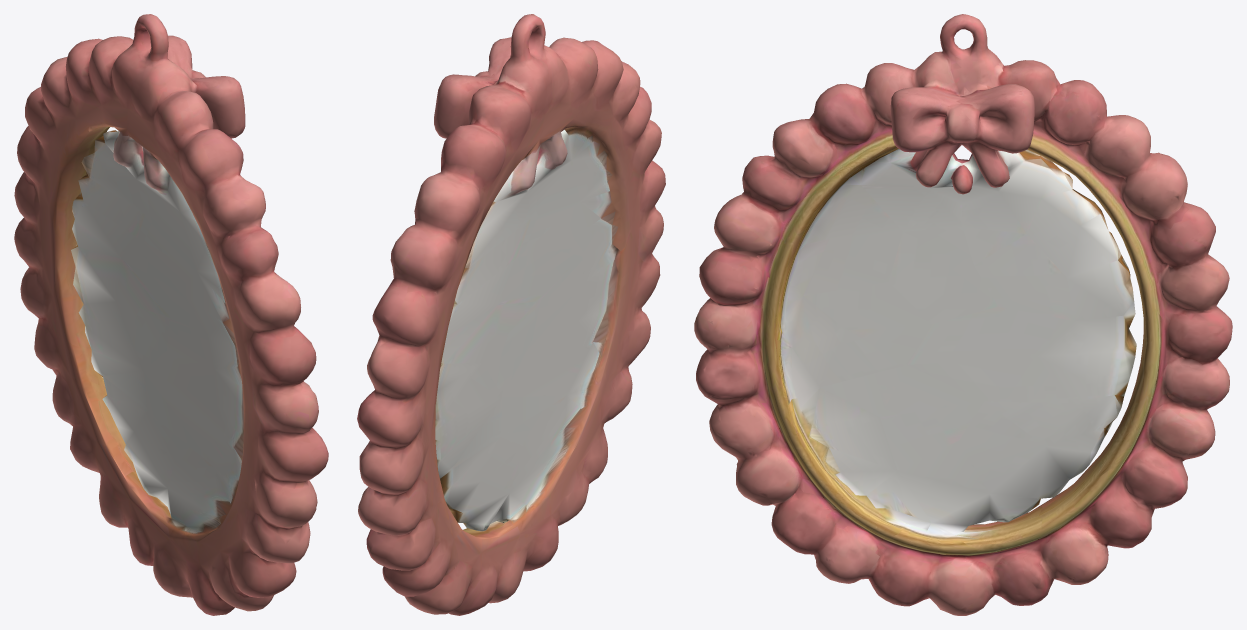
Rendered from hall-scalloped-mirror.glb.
3 renders of one model, left to right at view 1: azimuth 30°, elevation 25°; view 2: azimuth 150°, elevation 25°; view 3: azimuth 270°, elevation 25°, orthographic. The views are drawn at different scales.
Parts seen in each view (by area): view 1: tripo_node_dff9566c-42e5-415b-bb45-b2ad31c15951; view 2: tripo_node_dff9566c-42e5-415b-bb45-b2ad31c15951; view 3: tripo_node_dff9566c-42e5-415b-bb45-b2ad31c15951.
Boxes of the visible parts, bbox=[...] form: tripo_node_dff9566c-42e5-415b-bb45-b2ad31c15951: bbox=[14, 14, 328, 615]; tripo_node_dff9566c-42e5-415b-bb45-b2ad31c15951: bbox=[357, 14, 665, 615]; tripo_node_dff9566c-42e5-415b-bb45-b2ad31c15951: bbox=[694, 14, 1232, 615].
Size of the model in its own units: 0.1577 by 0.9751 by 0.8215.
1 material, 1 textured.
